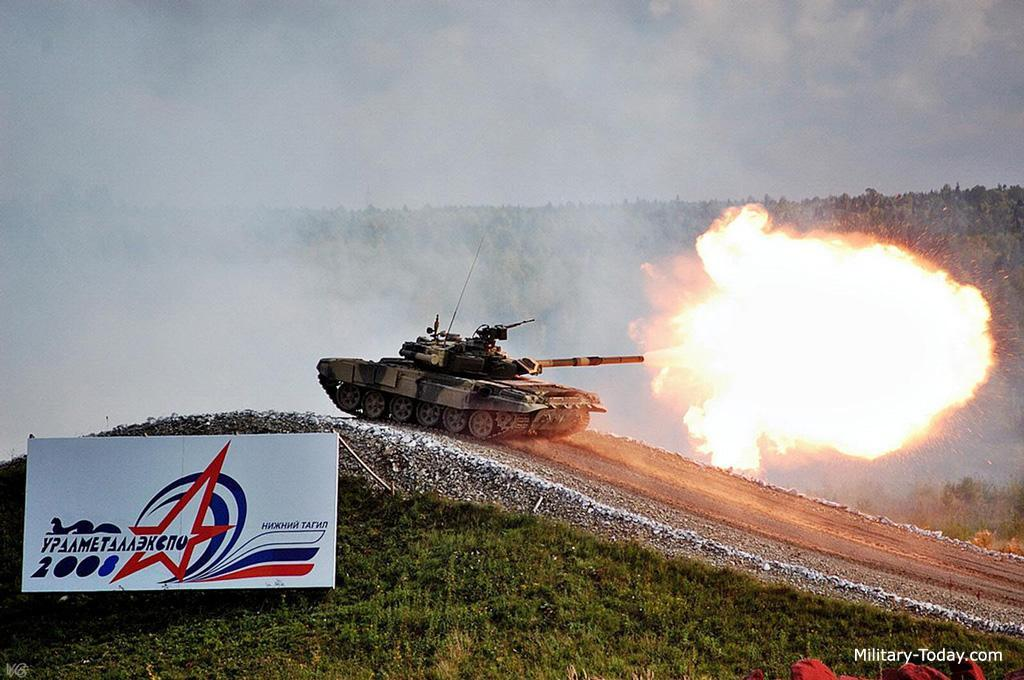tank: (315, 316, 645, 446)
